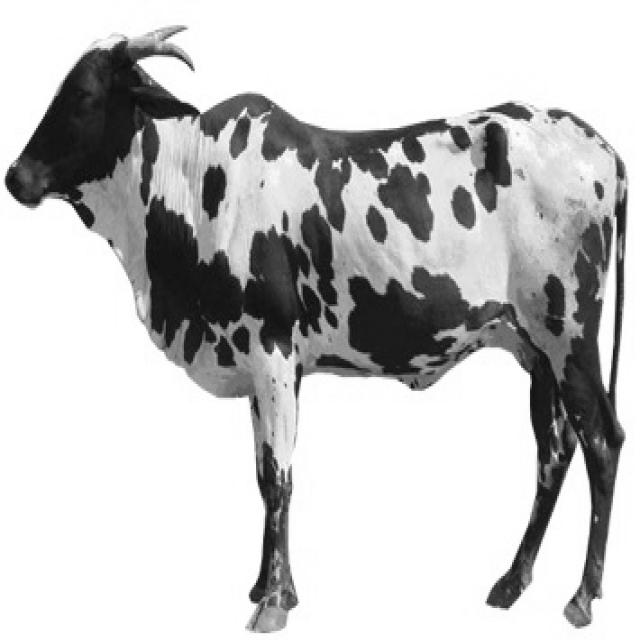Cow: (2, 21, 629, 633)
